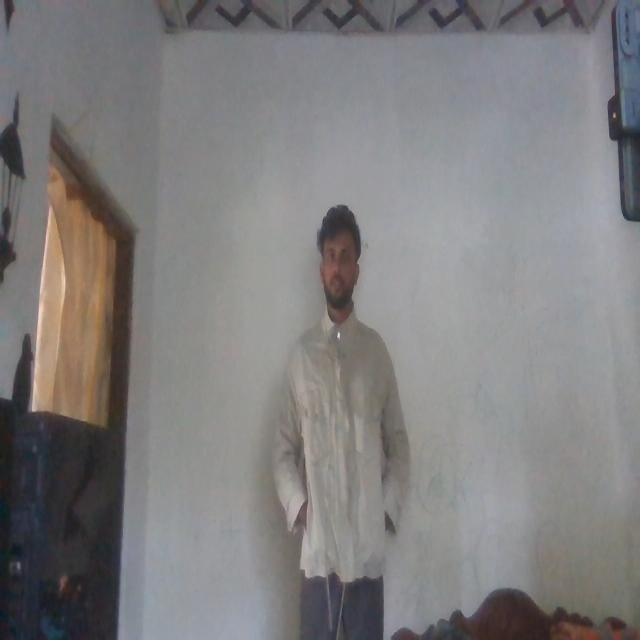Jacket_Wearer: (233, 299, 411, 572)
Person: (266, 193, 404, 640)
